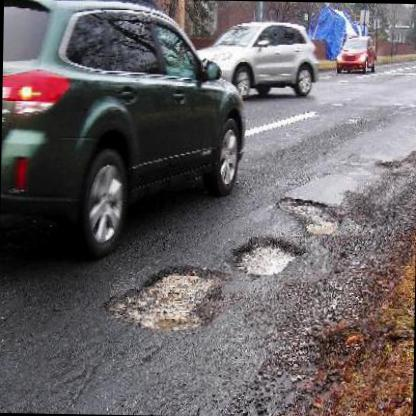pothole: (102, 260, 230, 336), (228, 233, 302, 280), (274, 194, 344, 238)
